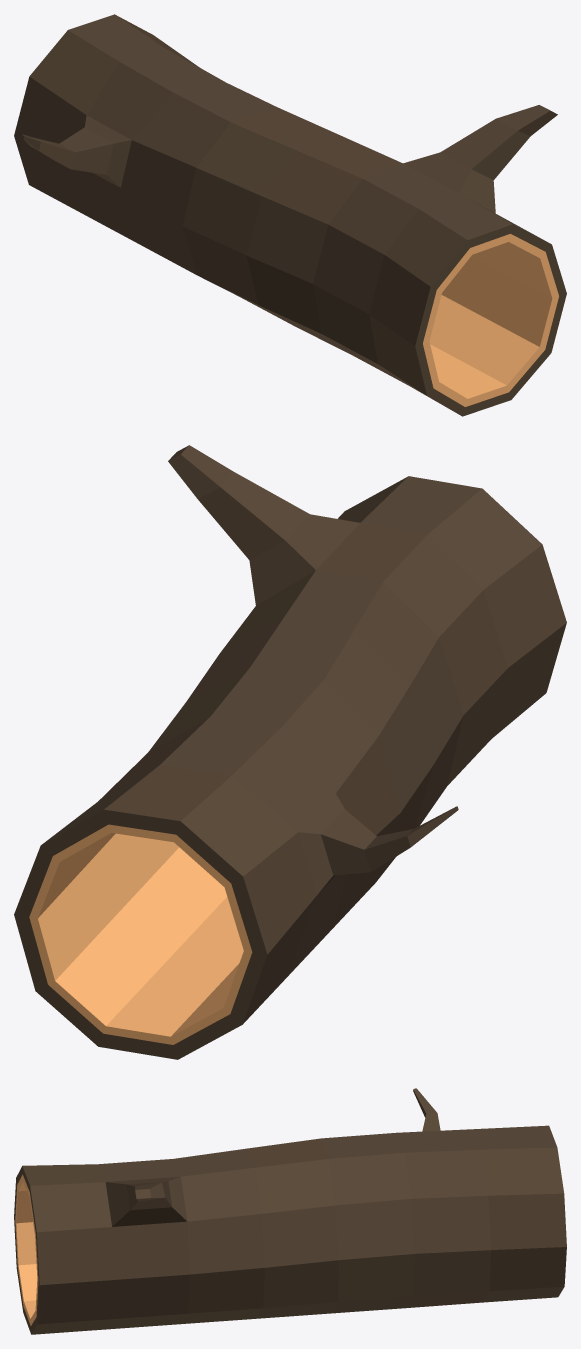
Rendered from MALAKING PUNO.fbx.
3 renders of one model, top to bottom at view 1: azimuth 30°, elevation 25°; view 2: azimuth 150°, elevation 25°; view 3: azimuth 270°, elevation 25°, orthographic. The views are drawn at different scales.
Parts seen in each view (by area): view 1: Log2.002; view 2: Log2.002; view 3: Log2.002.
Part boxes in pixels (bbox=[...]): Log2.002: bbox=[14, 14, 566, 416]; Log2.002: bbox=[14, 445, 566, 1059]; Log2.002: bbox=[14, 1088, 566, 1334].
Bounding box in the file's own units: 2442 × 1382 × 3717.
